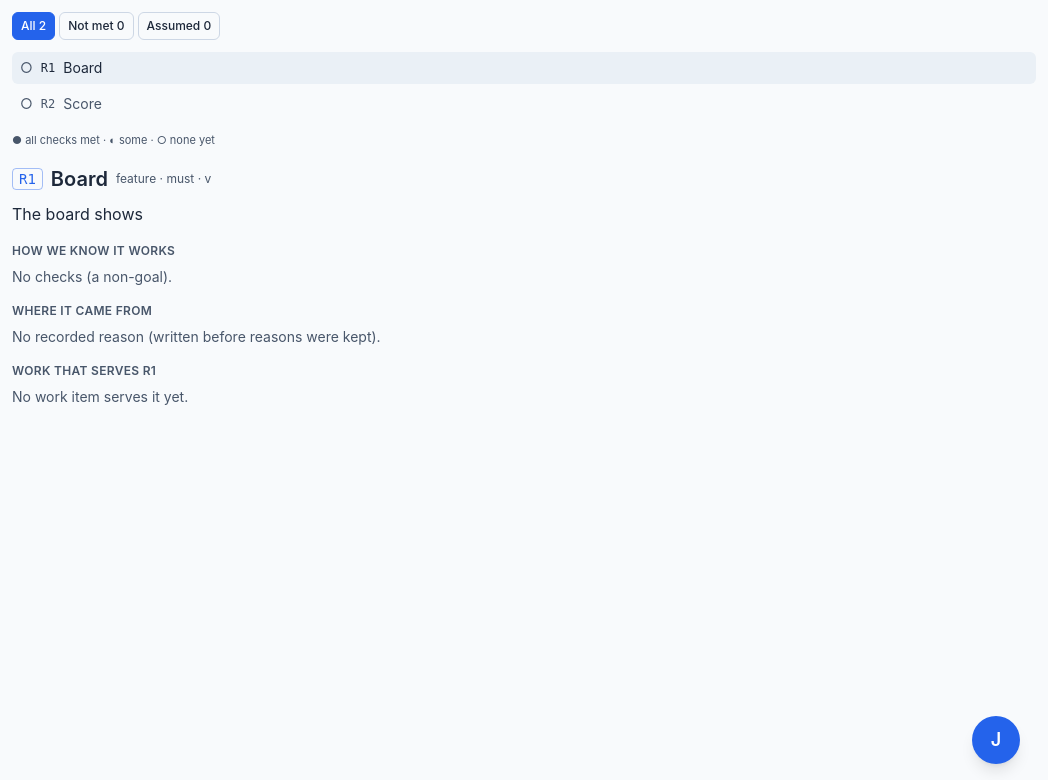
it: pages tell the dock what is on screen › the Spec page's selected requirement becomes the chip
The width and height of the screenshot is (1048, 780).
Click the button with test id "req-R2" at point(83, 104), box x1=12 y1=88 x2=1036 y2=120
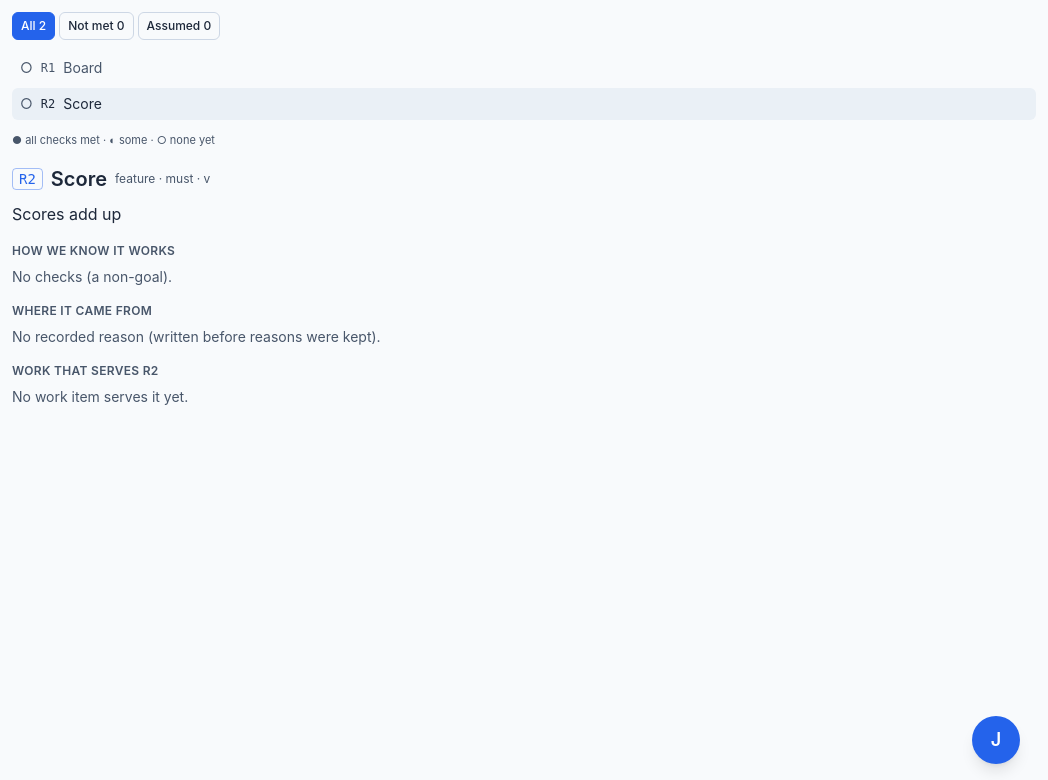
Click the button with test id "jack-launcher" at point(996, 740), box x1=972 y1=716 x2=1020 y2=764
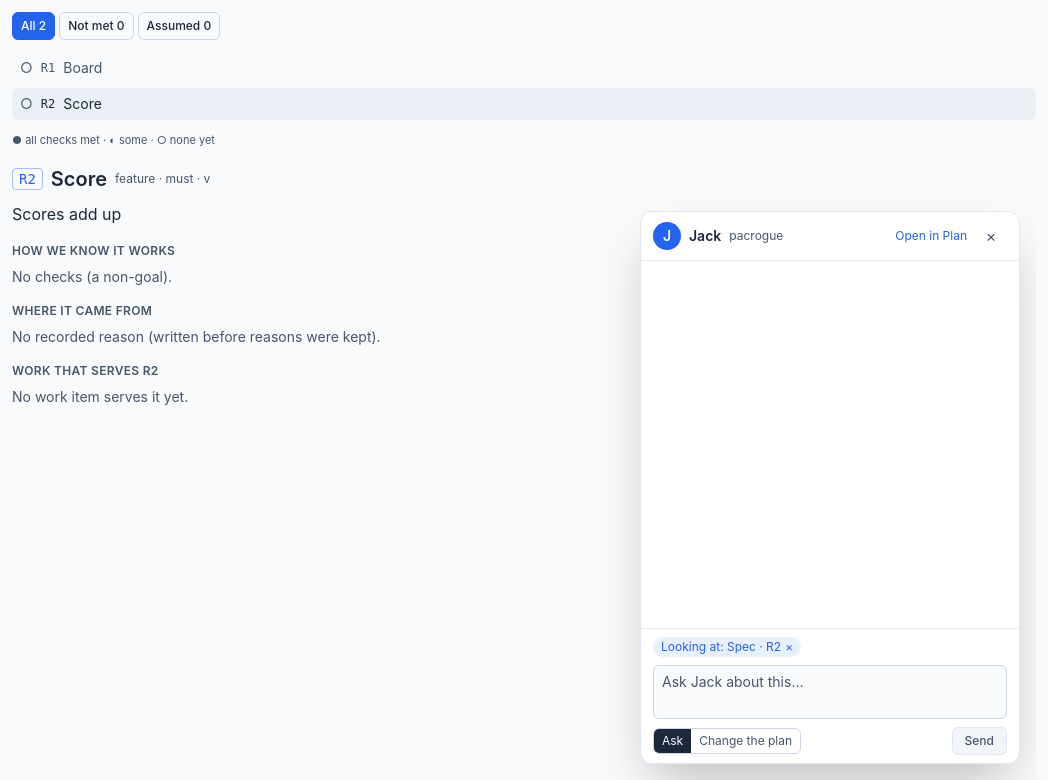
Expected: the element with test id "jack-chip" shows "Looking at: Spec · R2", x1=653 y1=637 x2=801 y2=657
